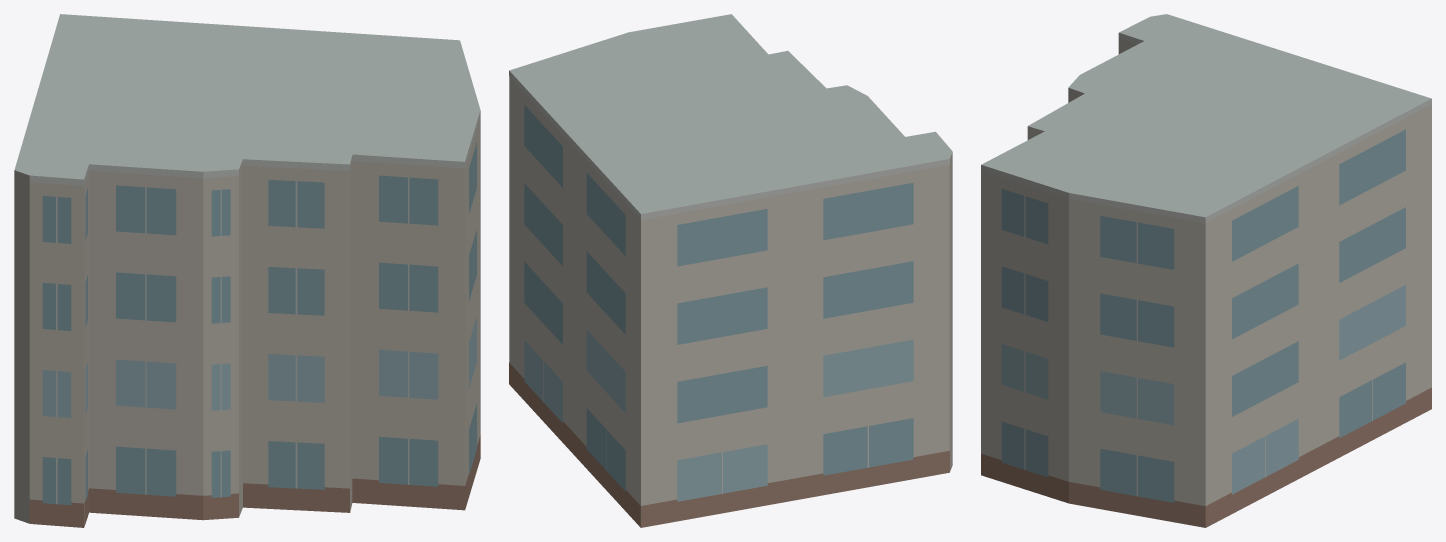
The model's file is survey-upis-32530249.glb.
3 views of the same model, side by side, from view 1: azimuth 30°, elevation 25°; view 2: azimuth 150°, elevation 25°; view 3: azimuth 270°, elevation 25° (orthographic). The views are drawn at different scales.
Visible parts, largest first — view 1: survey-upis-32530249.tmp; view 2: survey-upis-32530249.tmp; view 3: survey-upis-32530249.tmp.
Boxes of the visible parts, x1=… form: survey-upis-32530249.tmp: x1=14, y1=14, x2=480, y2=527; survey-upis-32530249.tmp: x1=509, y1=14, x2=952, y2=527; survey-upis-32530249.tmp: x1=981, y1=14, x2=1431, y2=527.
Size of the model in its own units: 18.4 by 13.1 by 17.24.
